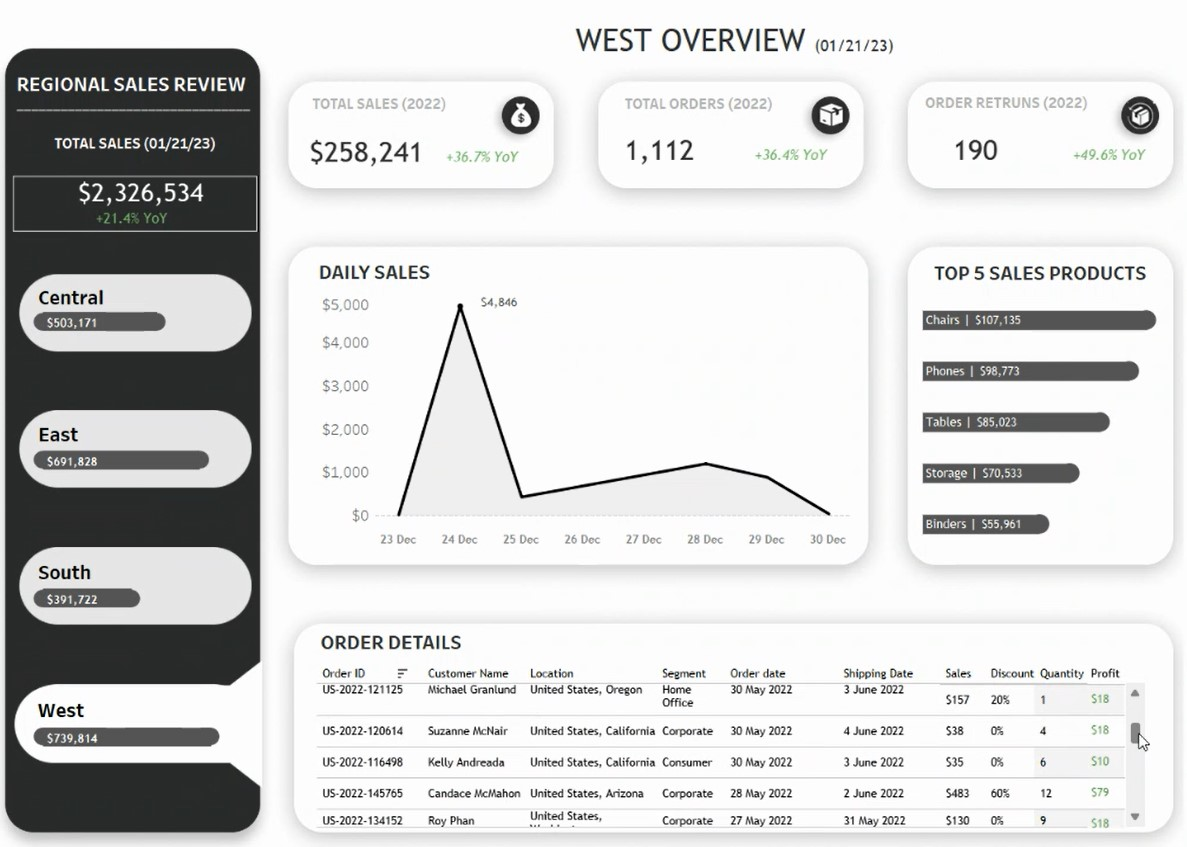

Layout of this report page (visuals, bound fields, positions):
{"tool":"tableau","page":{"name":"Dashboard 1","canvas":[1300,950],"ordinal":0},"visuals":[{"type":"image","param":"C:/Users/milan/Downloads/Untitled (1).png","box":[8,8,1284,934]},{"type":"worksheet","title":"heading","mark":"Text","box":[643,44,643,46]},{"type":"worksheet","title":"total & regional","mark":"Automatic","box":[51,90,259,175]},{"type":"worksheet","title":"return rate","mark":"Automatic","cols":["Order Date"],"box":[822,114,443,93]},{"type":"worksheet","title":"total sales","mark":"Text","box":[361,115,249,95]},{"type":"worksheet","title":"TOTAL ORDERS","mark":"Automatic","box":[695,115,303,91]},{"type":"image","param":"C:/Users/milan/Desktop/sales data tableau/sales.jpg","box":[576,128,28,28]},{"type":"image","param":"C:/Users/milan/Desktop/sales data tableau/returns.jpg","box":[1231,128,31,28]},{"type":"image","param":"C:/Users/milan/Desktop/sales data tableau/orders.jpg","box":[902,129,30,27]},{"type":"worksheet","title":"regional sales review","mark":"Shape","rows":["Region"],"box":[53,262,255,596]},{"type":"worksheet","title":"black shape header","mark":"Shape","rows":["Region"],"cols":["Sales"],"box":[54,272,225,601]},{"type":"worksheet","title":"selection header","mark":"Shape","rows":["Region"],"box":[42,278,284,581]},{"type":"worksheet","title":"transparent header","mark":"Shape","rows":["Region"],"box":[38,284,300,566]},{"type":"worksheet","title":"daily sales","mark":"Area","rows":["Sales","Sales"],"cols":["Order Date"],"box":[371,289,568,318]},{"type":"worksheet","title":"top 5 prod","mark":"Automatic","rows":["Sub-Category"],"cols":["Sales","Sales"],"box":[1014,290,260,311]},{"type":"worksheet","title":"table","mark":"Automatic","rows":["Order ID","Customer Name","Segment","order date","Shipping Date","Sales","Discount","Quantity"],"cols":["Calculation_1445092584450162723"],"box":[373,681,903,215]}]}

Visuals, with their boxes in screenshot pixels (x1, y1, x2, y2), scaled from the page's 1300x950 canvas onto the 1187x847 screenshot:
image: left=7, top=7, right=1180, bottom=840
"heading" worksheet (Text marks): left=587, top=39, right=1174, bottom=80
"total & regional" worksheet: left=47, top=80, right=283, bottom=236
"return rate" worksheet: left=751, top=102, right=1155, bottom=185
"total sales" worksheet (Text marks): left=330, top=103, right=557, bottom=187
"TOTAL ORDERS" worksheet: left=635, top=103, right=911, bottom=184
image: left=526, top=114, right=551, bottom=139
image: left=1124, top=114, right=1152, bottom=139
image: left=824, top=115, right=851, bottom=139
"regional sales review" worksheet (Shape marks): left=48, top=234, right=281, bottom=765
"black shape header" worksheet (Shape marks): left=49, top=243, right=255, bottom=778
"selection header" worksheet (Shape marks): left=38, top=248, right=298, bottom=766
"transparent header" worksheet (Shape marks): left=35, top=253, right=309, bottom=758
"daily sales" worksheet (Area marks): left=339, top=258, right=857, bottom=541
"top 5 prod" worksheet: left=926, top=259, right=1163, bottom=536
"table" worksheet: left=341, top=607, right=1165, bottom=799
